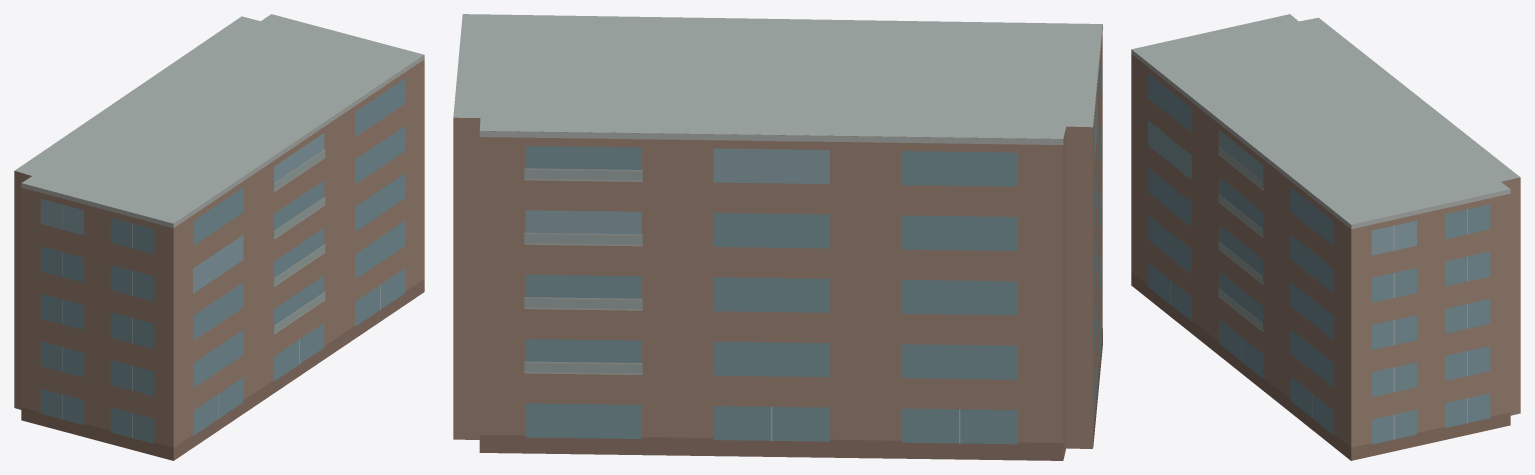
File: survey-upis-32837281.glb
The picture shows the model from 3 angles, left to right: view 1: azimuth 30°, elevation 25°; view 2: azimuth 150°, elevation 25°; view 3: azimuth 270°, elevation 25°; orthographic projection. The views are drawn at different scales.
Parts seen in each view (by area): view 1: survey-upis-32837281.tmp; view 2: survey-upis-32837281.tmp; view 3: survey-upis-32837281.tmp.
Part boxes in pixels (bbox=[...]): survey-upis-32837281.tmp: bbox=[14, 14, 424, 460]; survey-upis-32837281.tmp: bbox=[453, 14, 1102, 460]; survey-upis-32837281.tmp: bbox=[1131, 14, 1520, 460].
Bounding box in the file's own units: 24.51 × 12.8 × 19.13.
